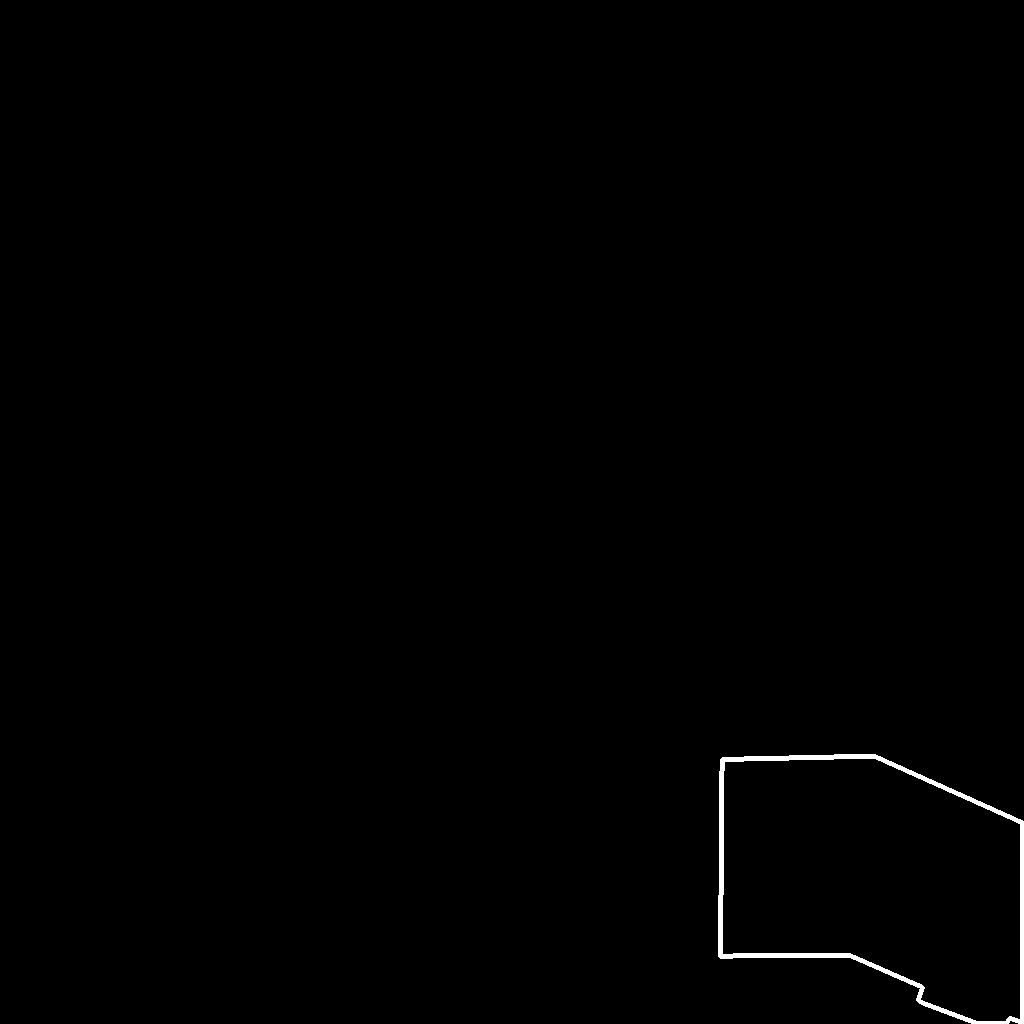building: (720, 756, 1024, 1024)
